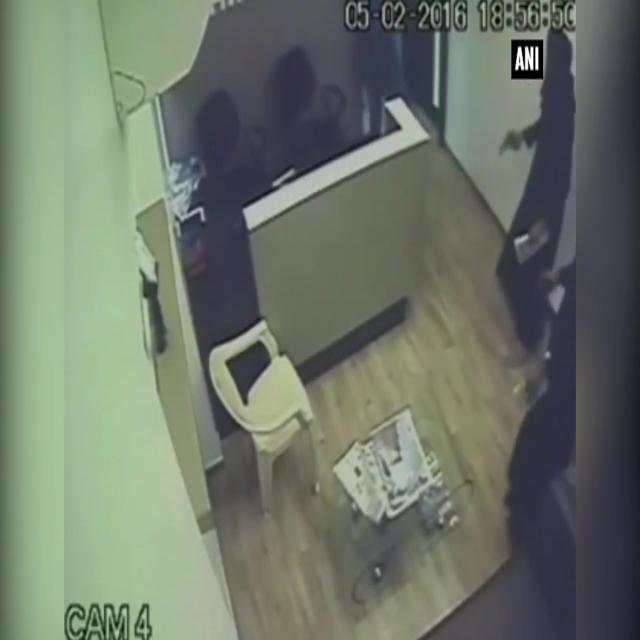Weapon: (498, 118, 526, 175)
